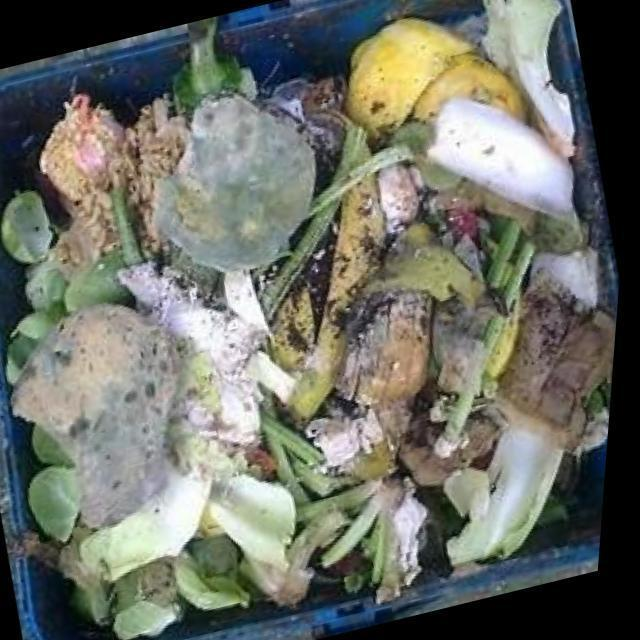Plastic_Bag: (4, 0, 621, 640), (17, 305, 185, 528), (159, 94, 318, 271)
